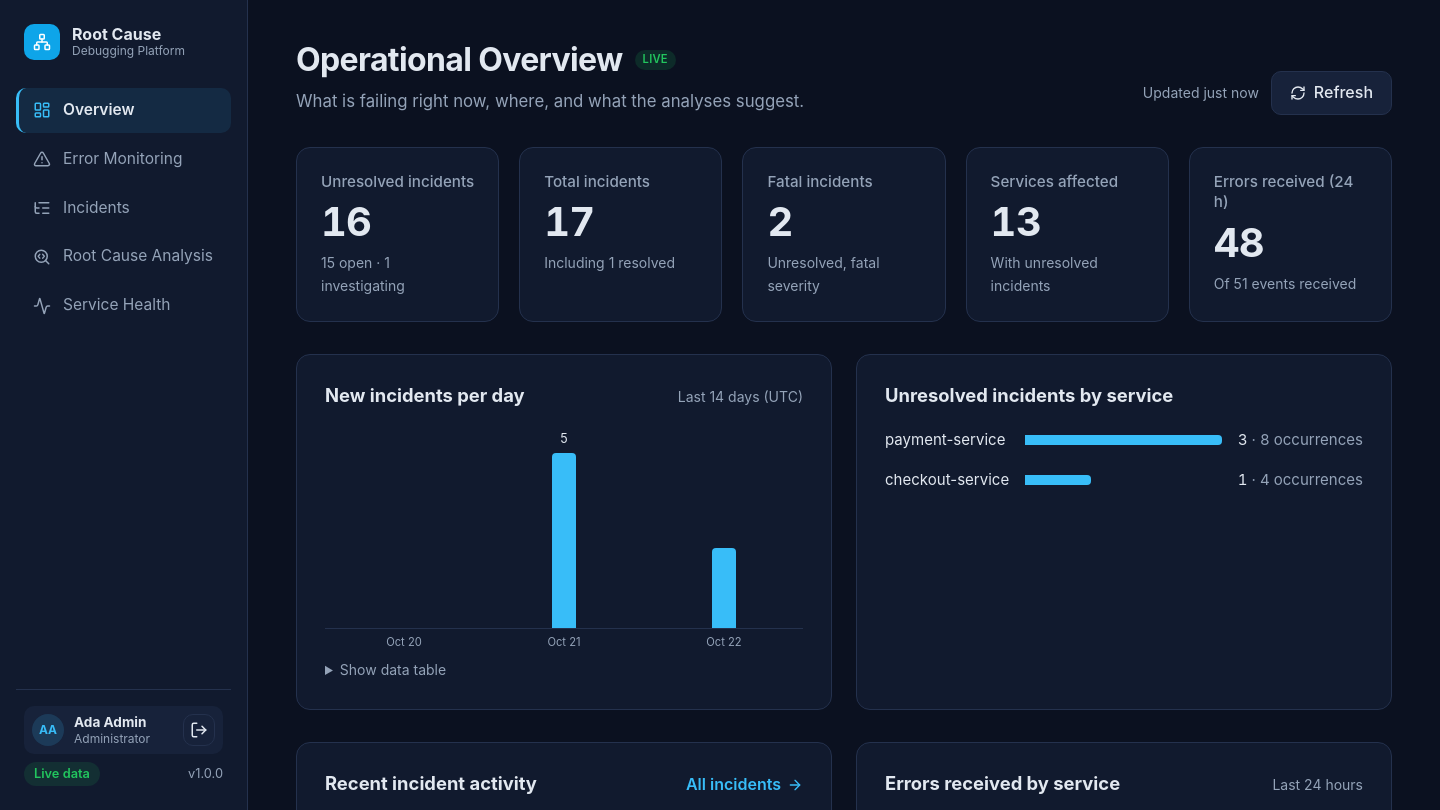
Test: dashboard navigation › marks the current page in the navigation
What coordinates should you click on to do the following:
click the link "Incidents"
I would click on:
 (81, 207)
Its box is [33,198,130,217].
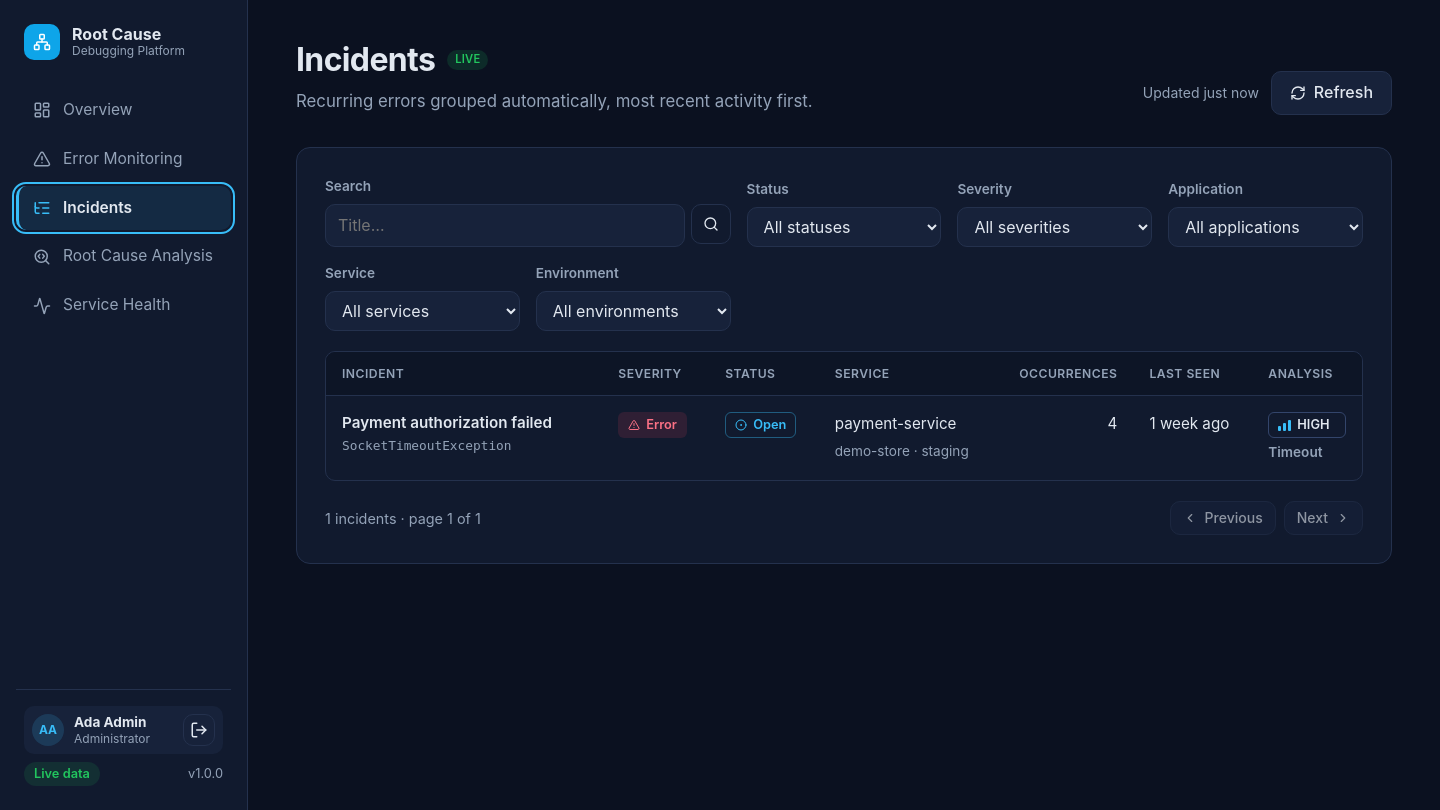
Now the heading "Incidents" is shown, box [296,40,435,80]
